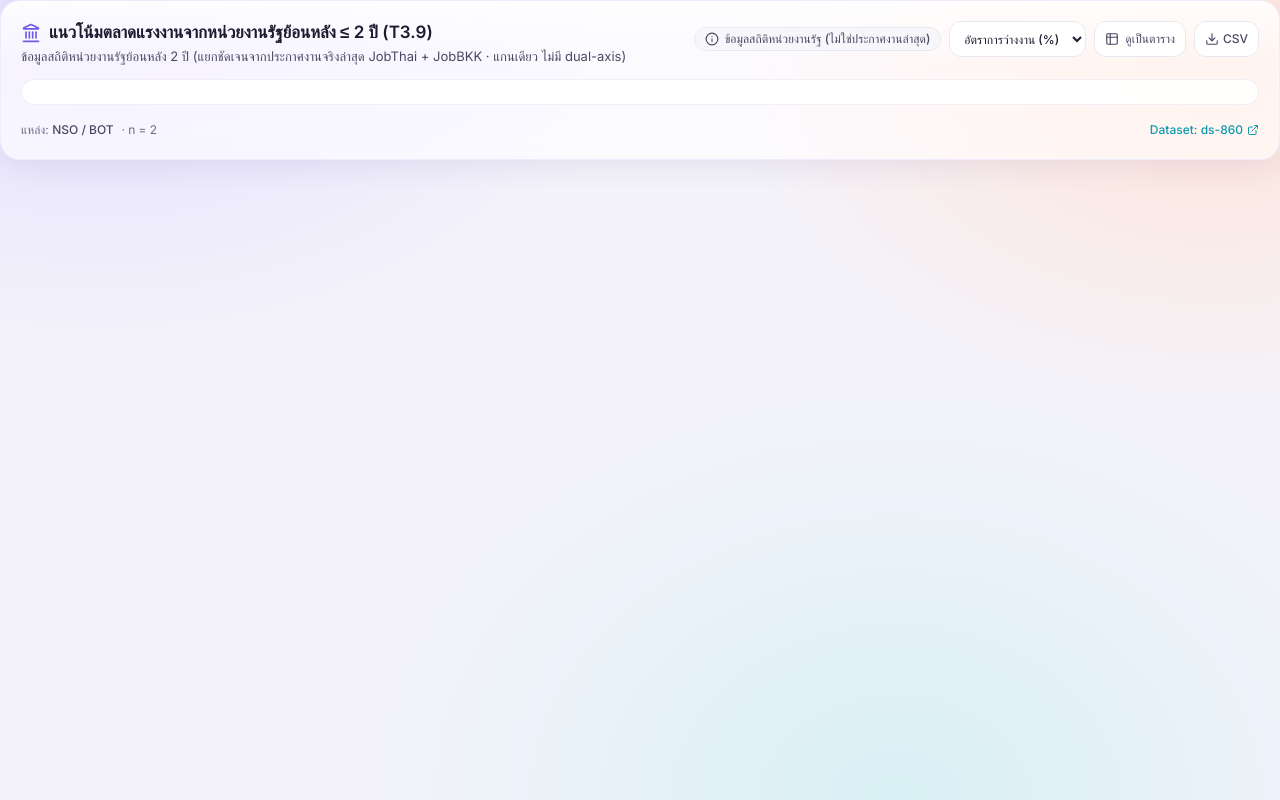
Test: Design System UI Components › renders OfficialLaborTrendCard with metric selector and Table View toggle
Expected: the text "ข้อมูลสถิติหน่วยงานรัฐ (ไม่ใช่ประกาศงานล่าสุด)" is shown, [725,30,930,48]
Click the button "ดูเป็นตาราง" at (1140, 39), box [1094,21,1186,57]
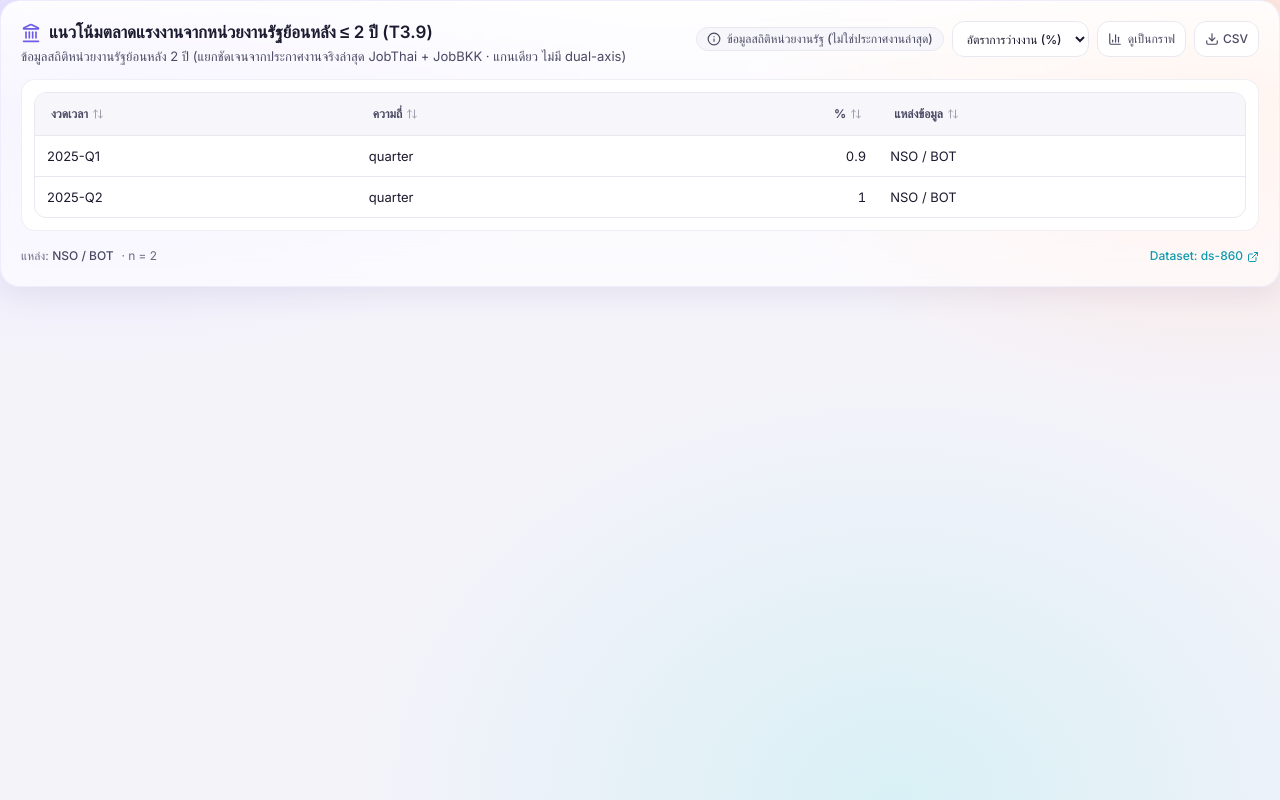
Expected: the text "2025-Q1" is shown, [35,136,357,177]
Expected: the text "2025-Q2" is shown, [35,177,357,217]
